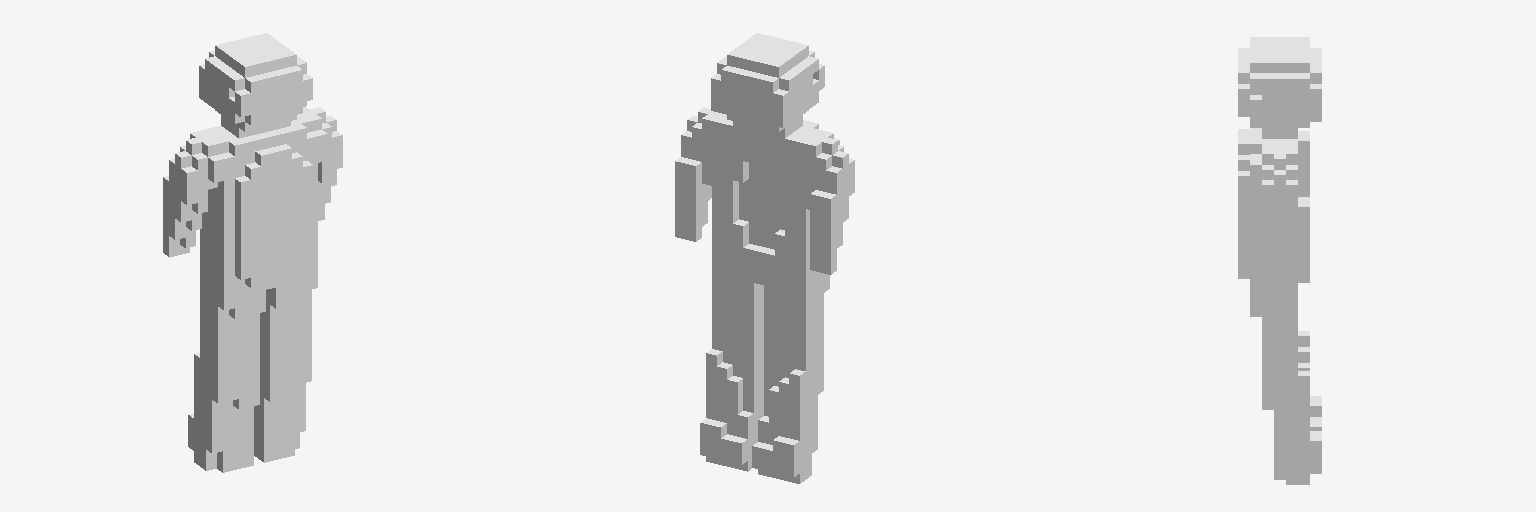
The model's file is Lightboy.obj.
3 renders of one model, left to right at view 1: azimuth 30°, elevation 25°; view 2: azimuth 150°, elevation 25°; view 3: azimuth 270°, elevation 25°, orthographic.
Bounding box in the file's own units: 15 × 38 × 7.